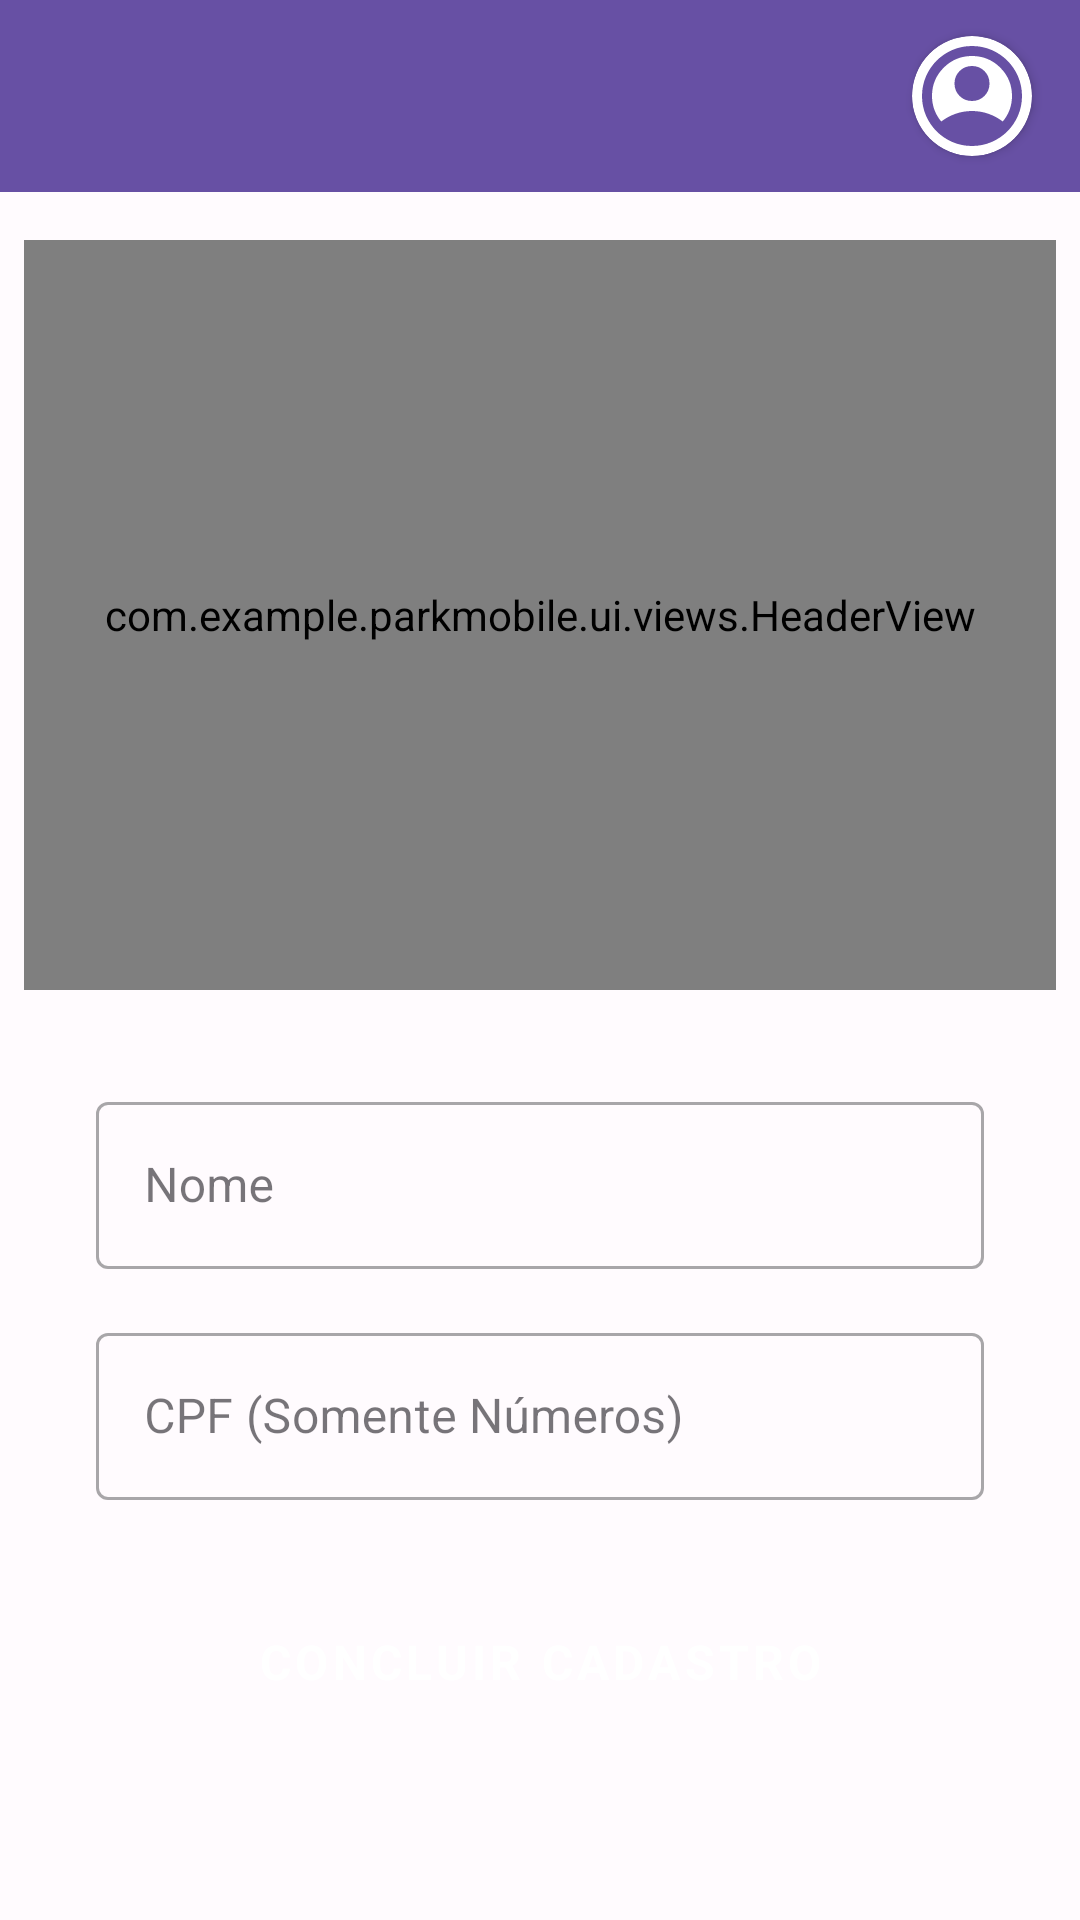

Locate icon controls on the screen. Image size 1080 x 1920, boxes as BBox(x1, y1, x2, y2).
Foto do perfil: BBox(912, 36, 1032, 156)
